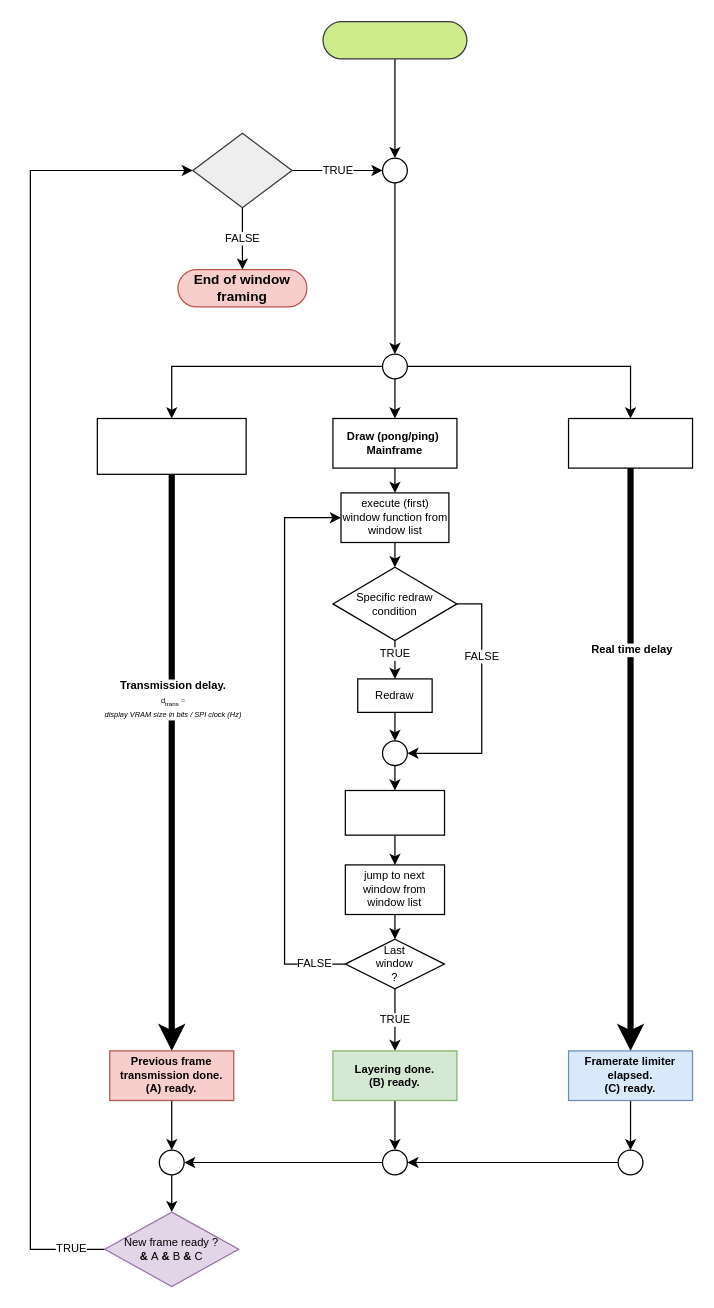
Image size: 714x1308. Some labels were removed from this diagram. Here are the shapes that lost their labels. From the top down, the centre of each, then its label:
the point at 394,39: Beginning window framing
the point at 242,170: Continue framing ?
the point at 171,445: Begin previous (ping/pong) framebuffer transmission to display. (via DMA)
the point at 630,442: Wait for T FPS =1/f FPS
the point at 394,812: Layer window frame on mainframe
